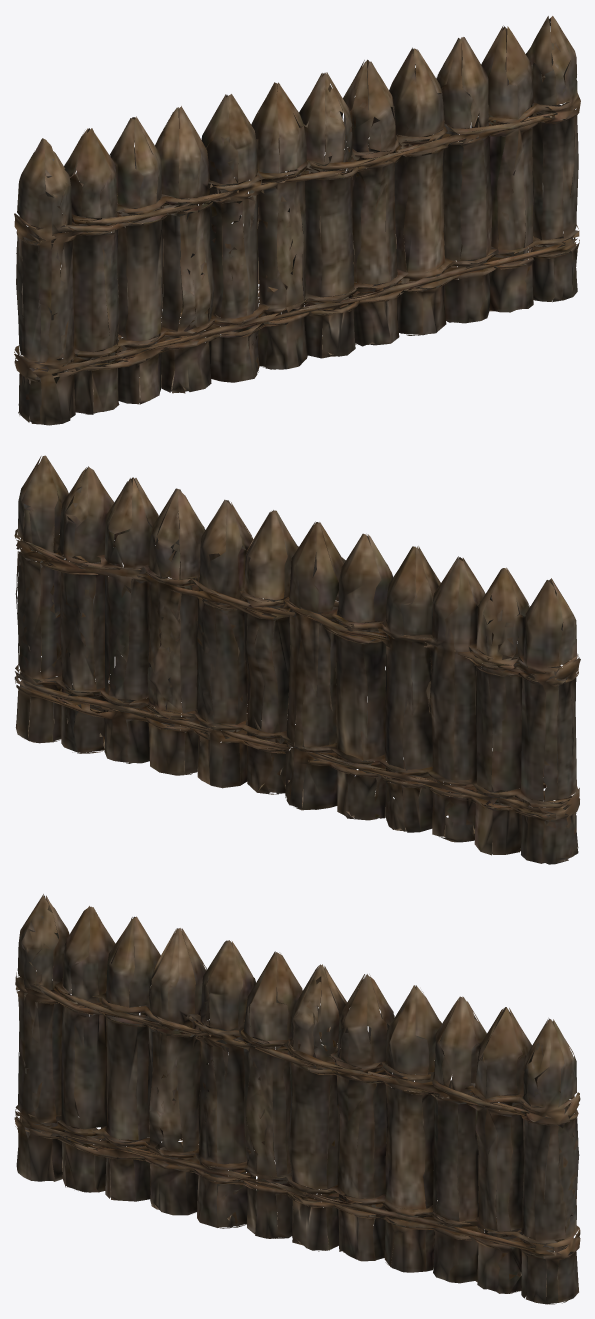
Rendered from palisade_far.glb.
The picture shows the model from 3 angles, top to bottom: view 1: azimuth 30°, elevation 25°; view 2: azimuth 150°, elevation 25°; view 3: azimuth 330°, elevation 25°; orthographic projection.
Visible parts, largest first — view 1: model; view 2: model; view 3: model.
Part boxes in pixels (left/top/right/bottom): model: left=14, top=16, right=580, bottom=425; model: left=14, top=455, right=580, bottom=864; model: left=14, top=894, right=580, bottom=1304.
Bounding box in the file's own units: 1 × 0.4814 × 0.1191.
1 material, 1 textured.
